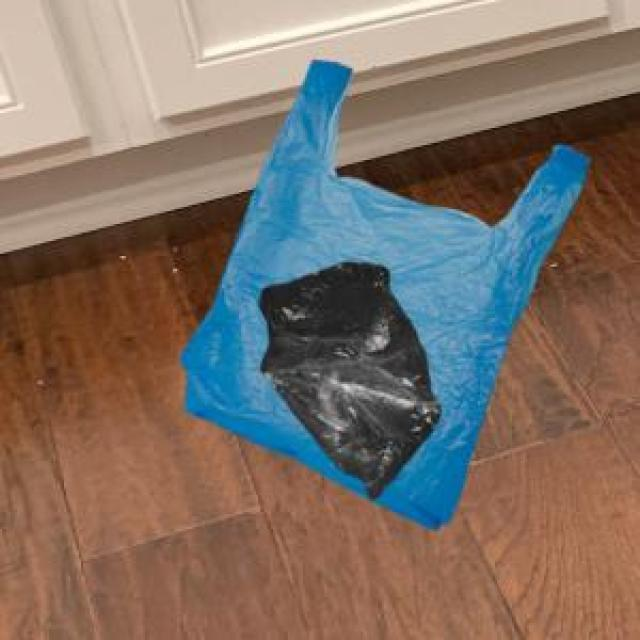waste: (182, 61, 589, 528)
